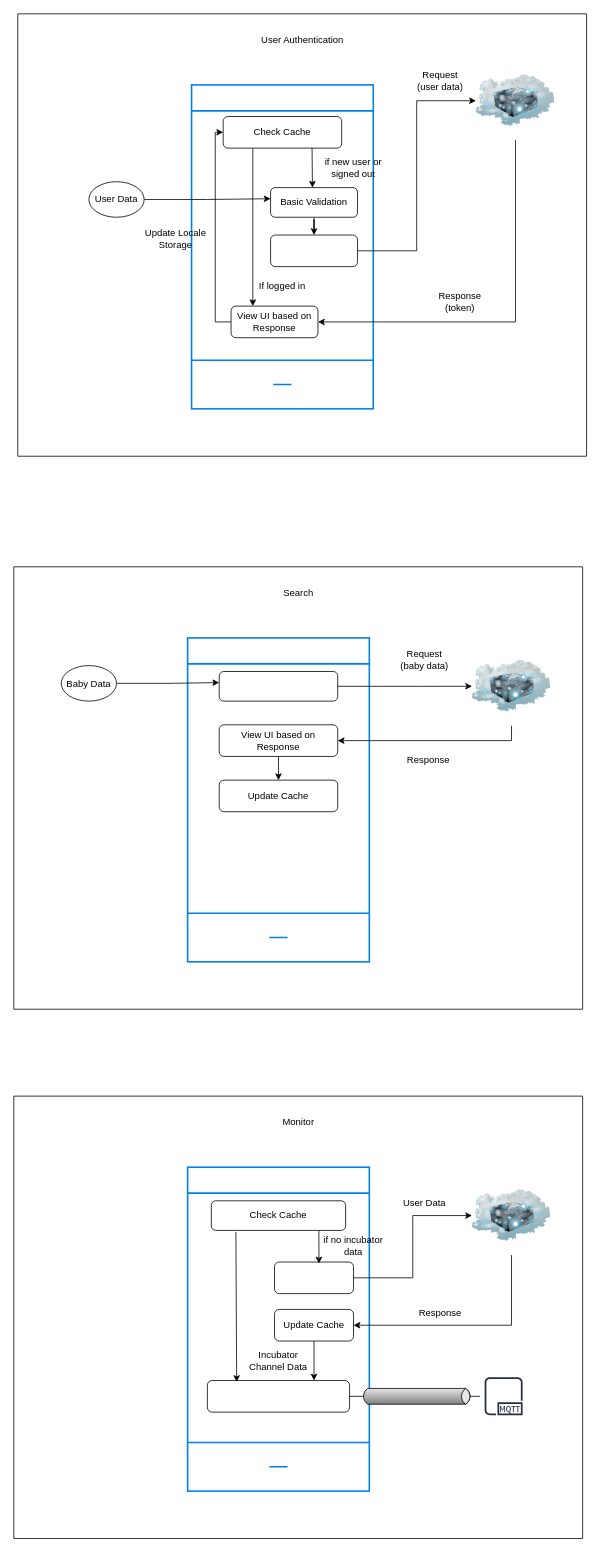
Image size: 600x1552. Some labels were removed from this diagram. Here are the shapes that lost their labels. From the top down, the box of each, then its label:
(270, 234, 357, 267): Remote Auth
(218, 671, 338, 701): Find Incubator
(274, 1261, 354, 1294): Request Baby Incubator channel
(207, 1380, 350, 1412): View UI based on the data
(479, 1372, 527, 1420): MQTT protocol
